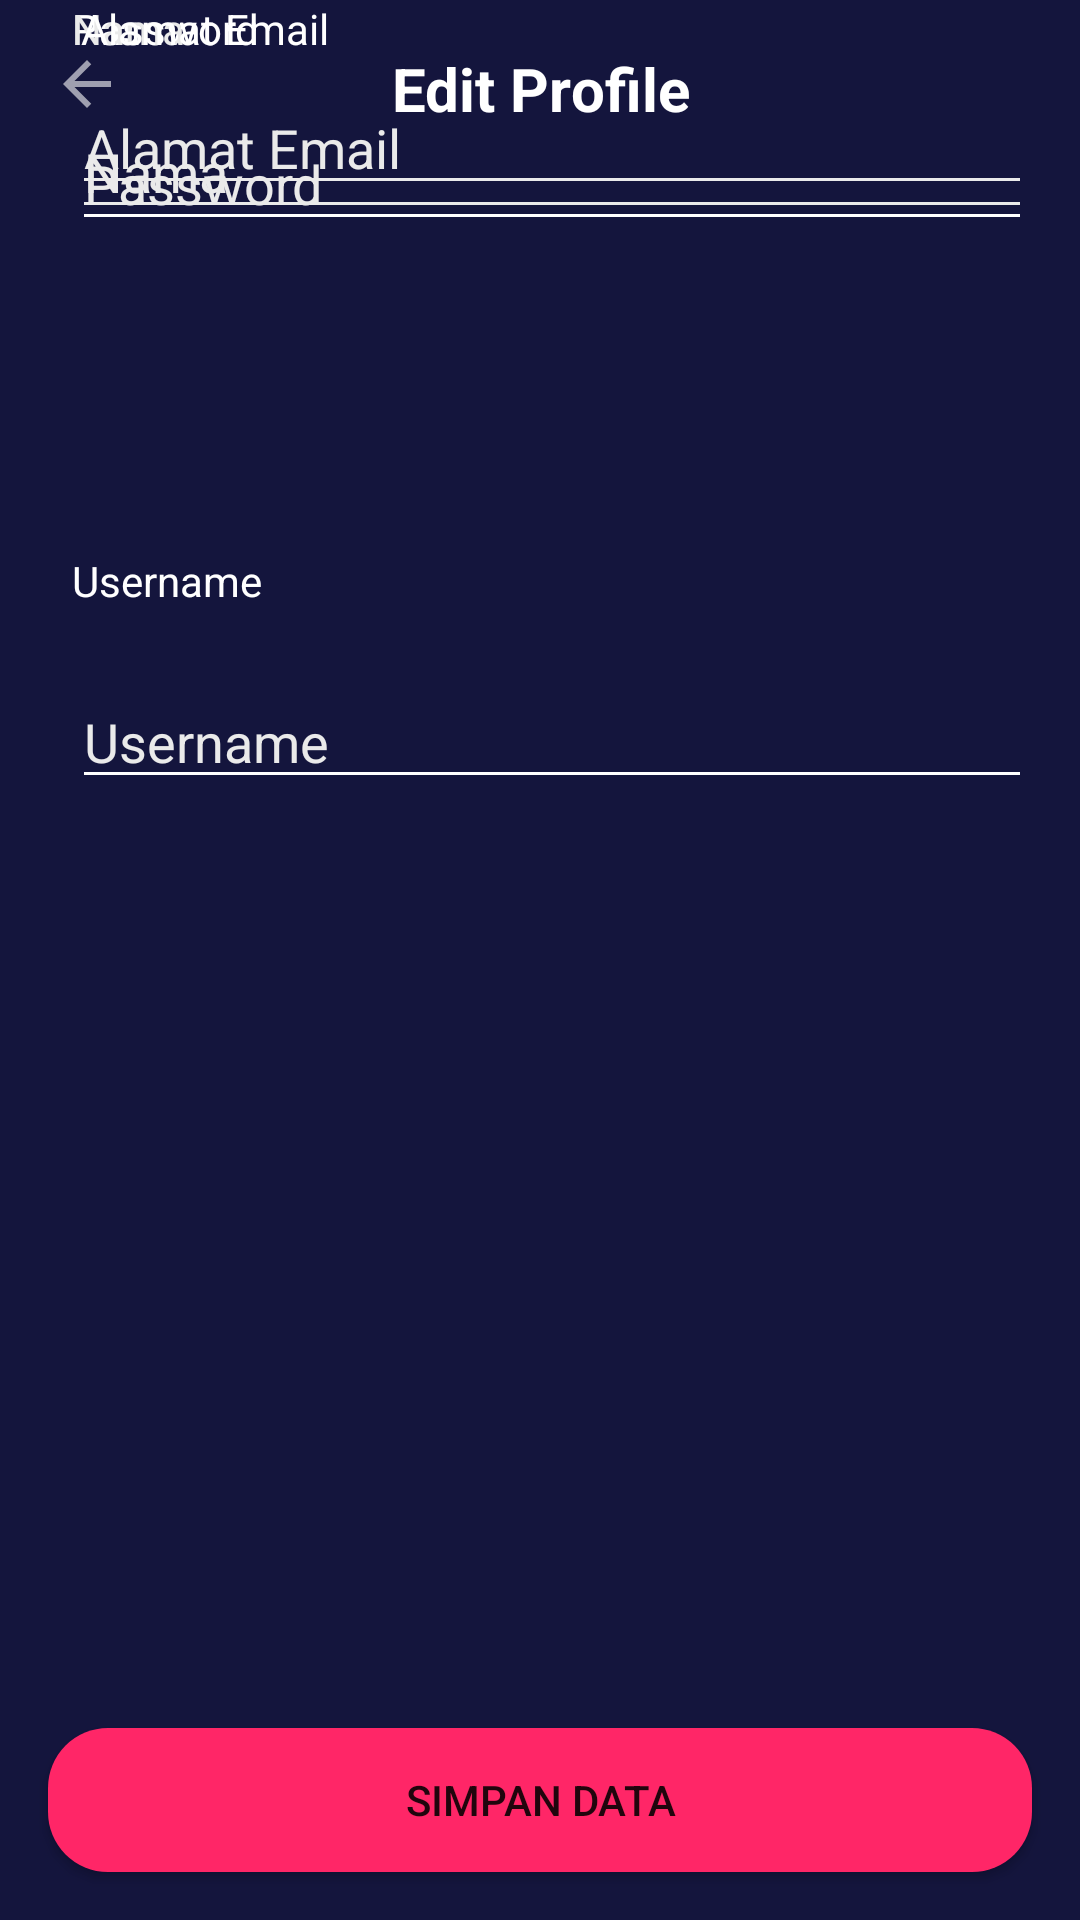

Screen size 1080w x 1920h. Icon name, then its center in pixels as [x,y]:
arrow back: [87,84]
